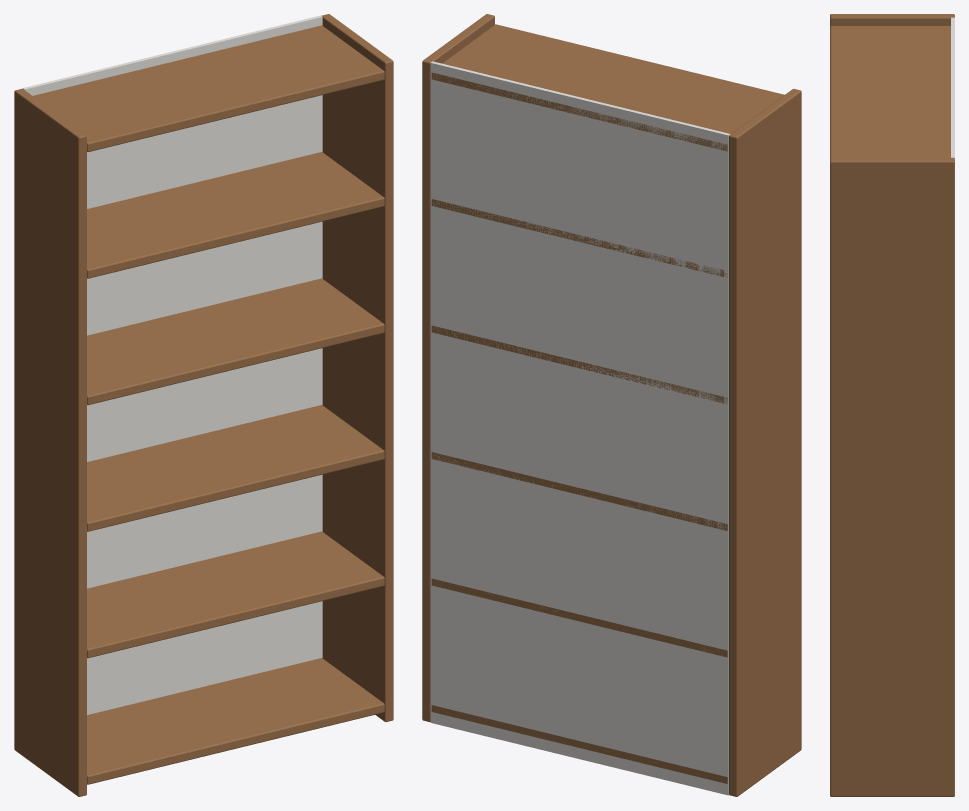
The model's file is furn_bookcase.glb.
3 views of the same model, side by side, from view 1: azimuth 30°, elevation 25°; view 2: azimuth 150°, elevation 25°; view 3: azimuth 270°, elevation 25° (orthographic). The views are drawn at different scales.
Parts seen in each view (by area): view 1: Bookcase; view 2: Bookcase; view 3: Bookcase.
Part boxes in pixels (<box>): Bookcase: <box>14,14,393,796</box>; Bookcase: <box>422,14,801,796</box>; Bookcase: <box>830,14,954,796</box>.
Bounding box in the file's own units: 0.9 × 1.8 × 0.32.
